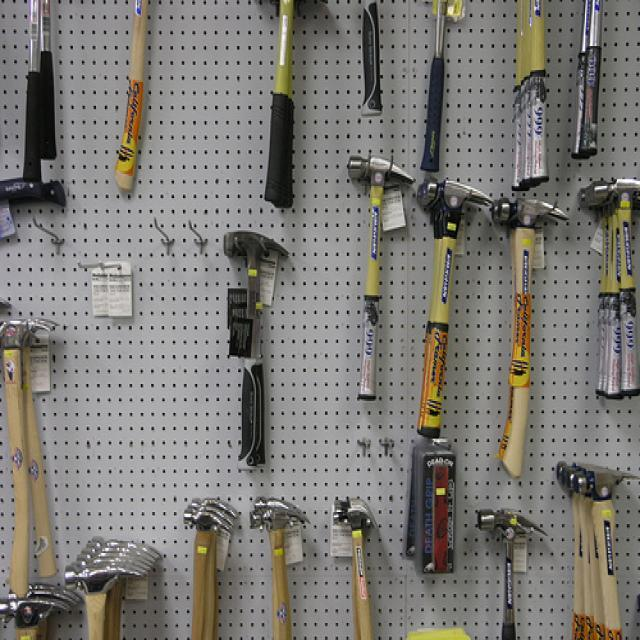hammer: (480, 193, 576, 479), (340, 146, 418, 418), (421, 170, 494, 442), (219, 227, 292, 481), (0, 303, 52, 592), (566, 454, 638, 640), (590, 170, 640, 404), (476, 497, 551, 640), (173, 490, 243, 640), (61, 541, 155, 640), (252, 487, 312, 640), (331, 489, 388, 640), (0, 580, 81, 640)
